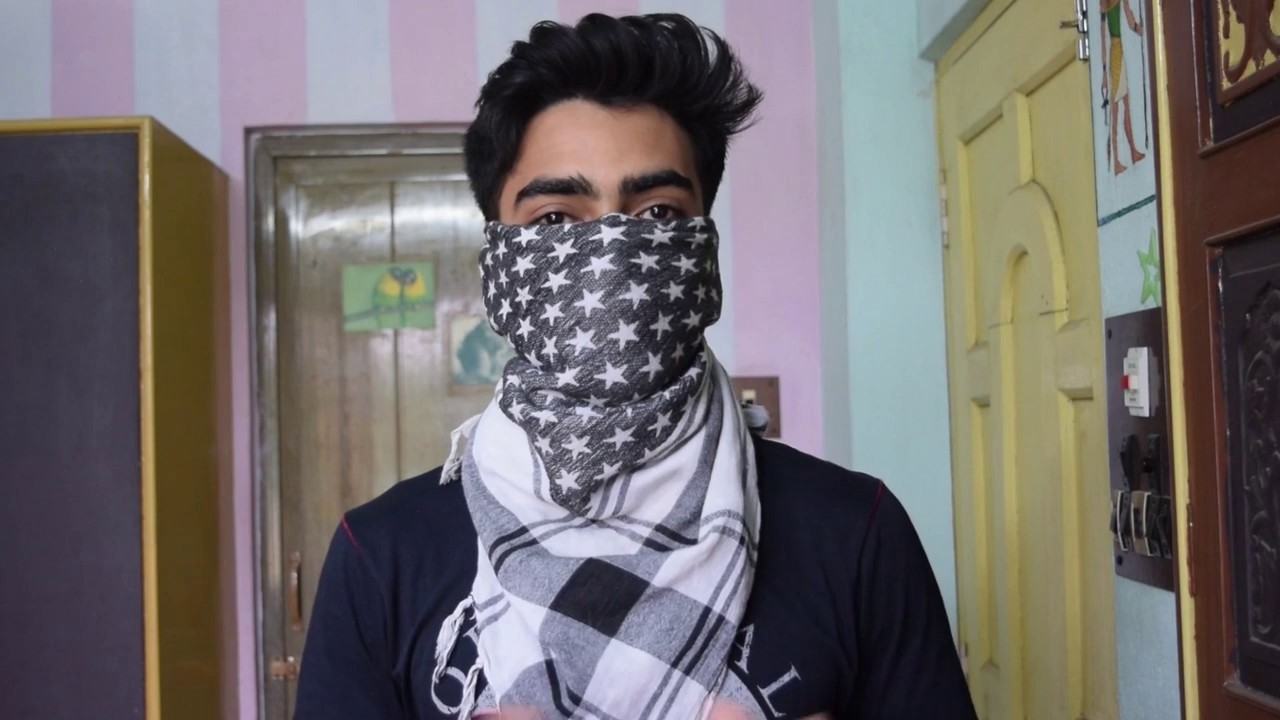face_with_mask: (472, 78, 735, 387)
